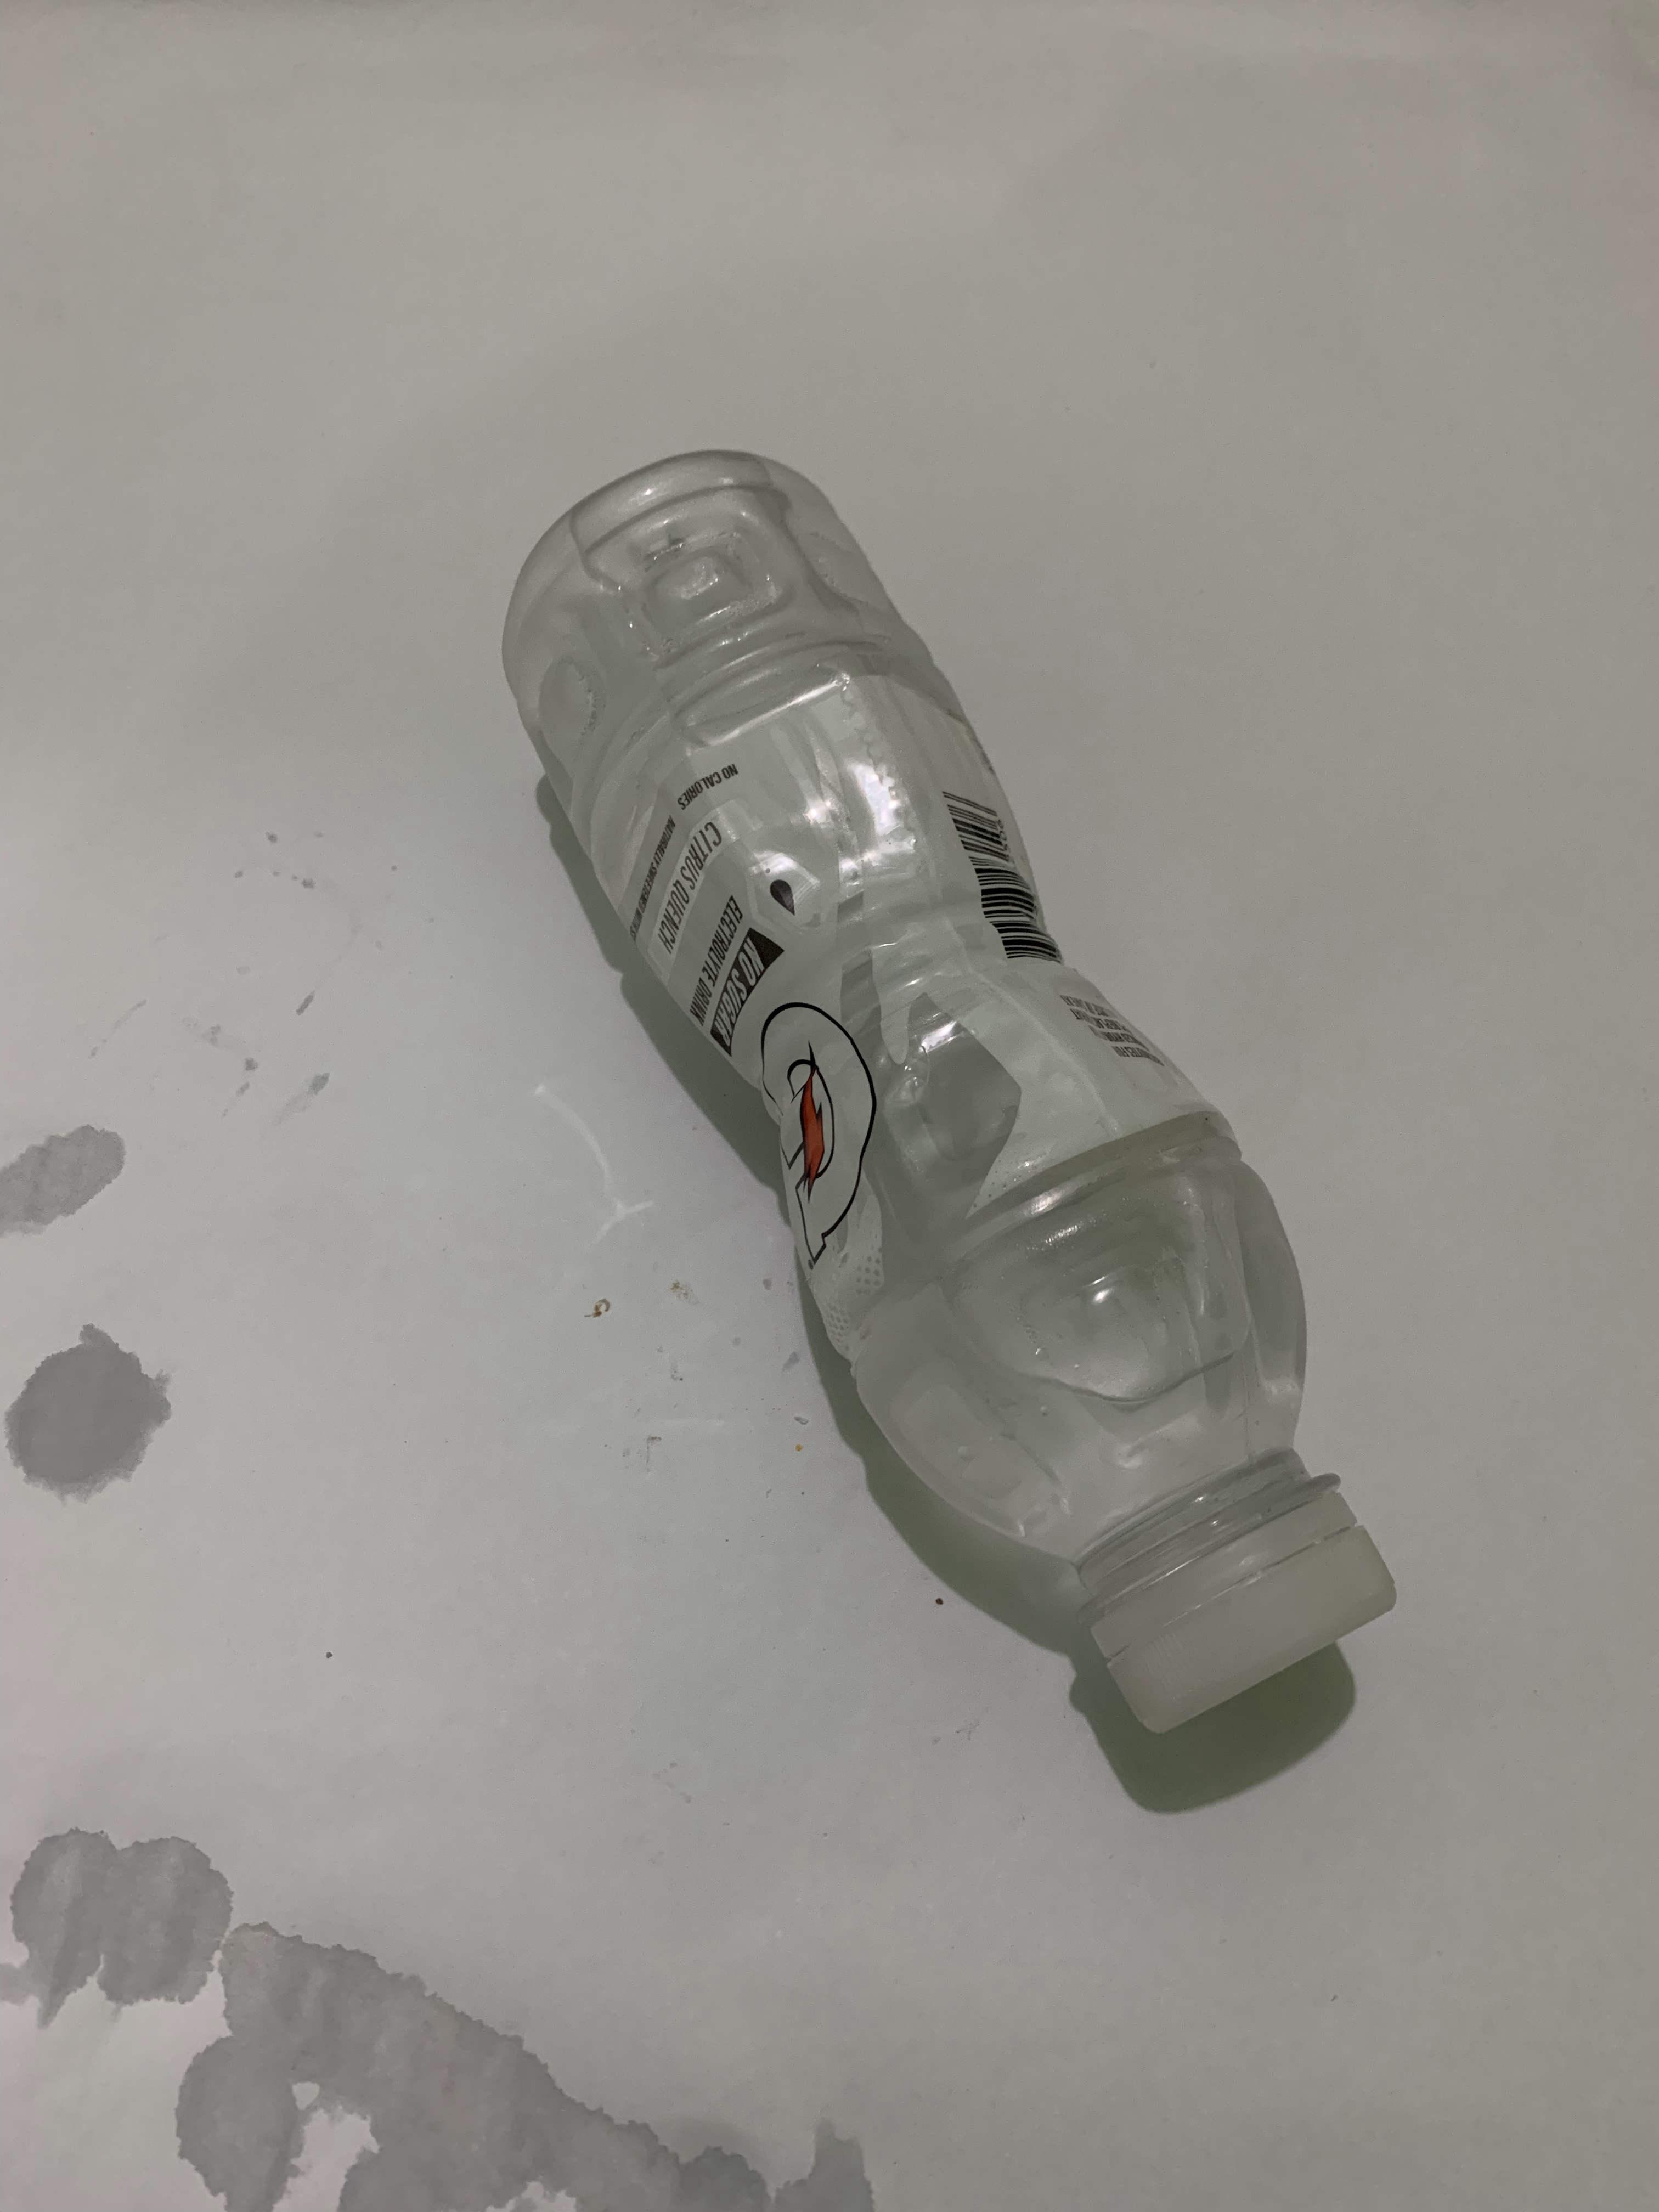bottle: (120, 991, 124, 1190)
